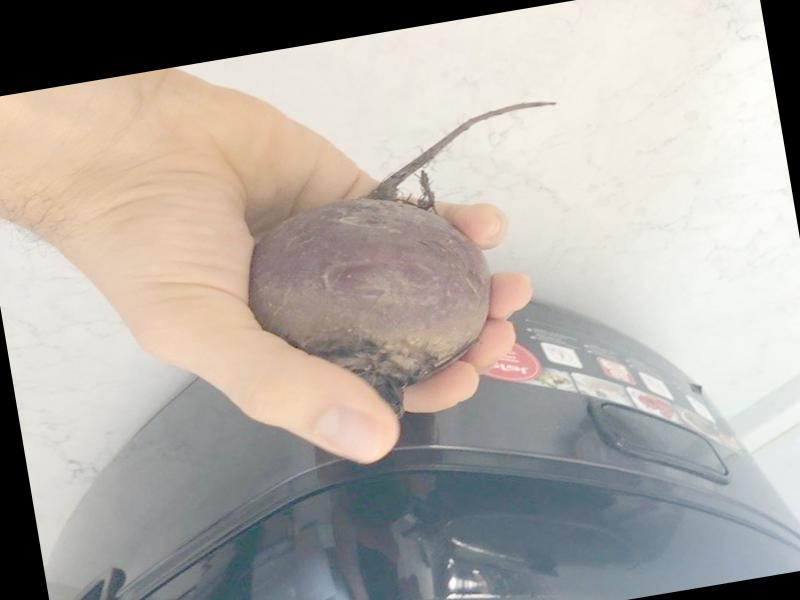Beet: (225, 98, 602, 435)
